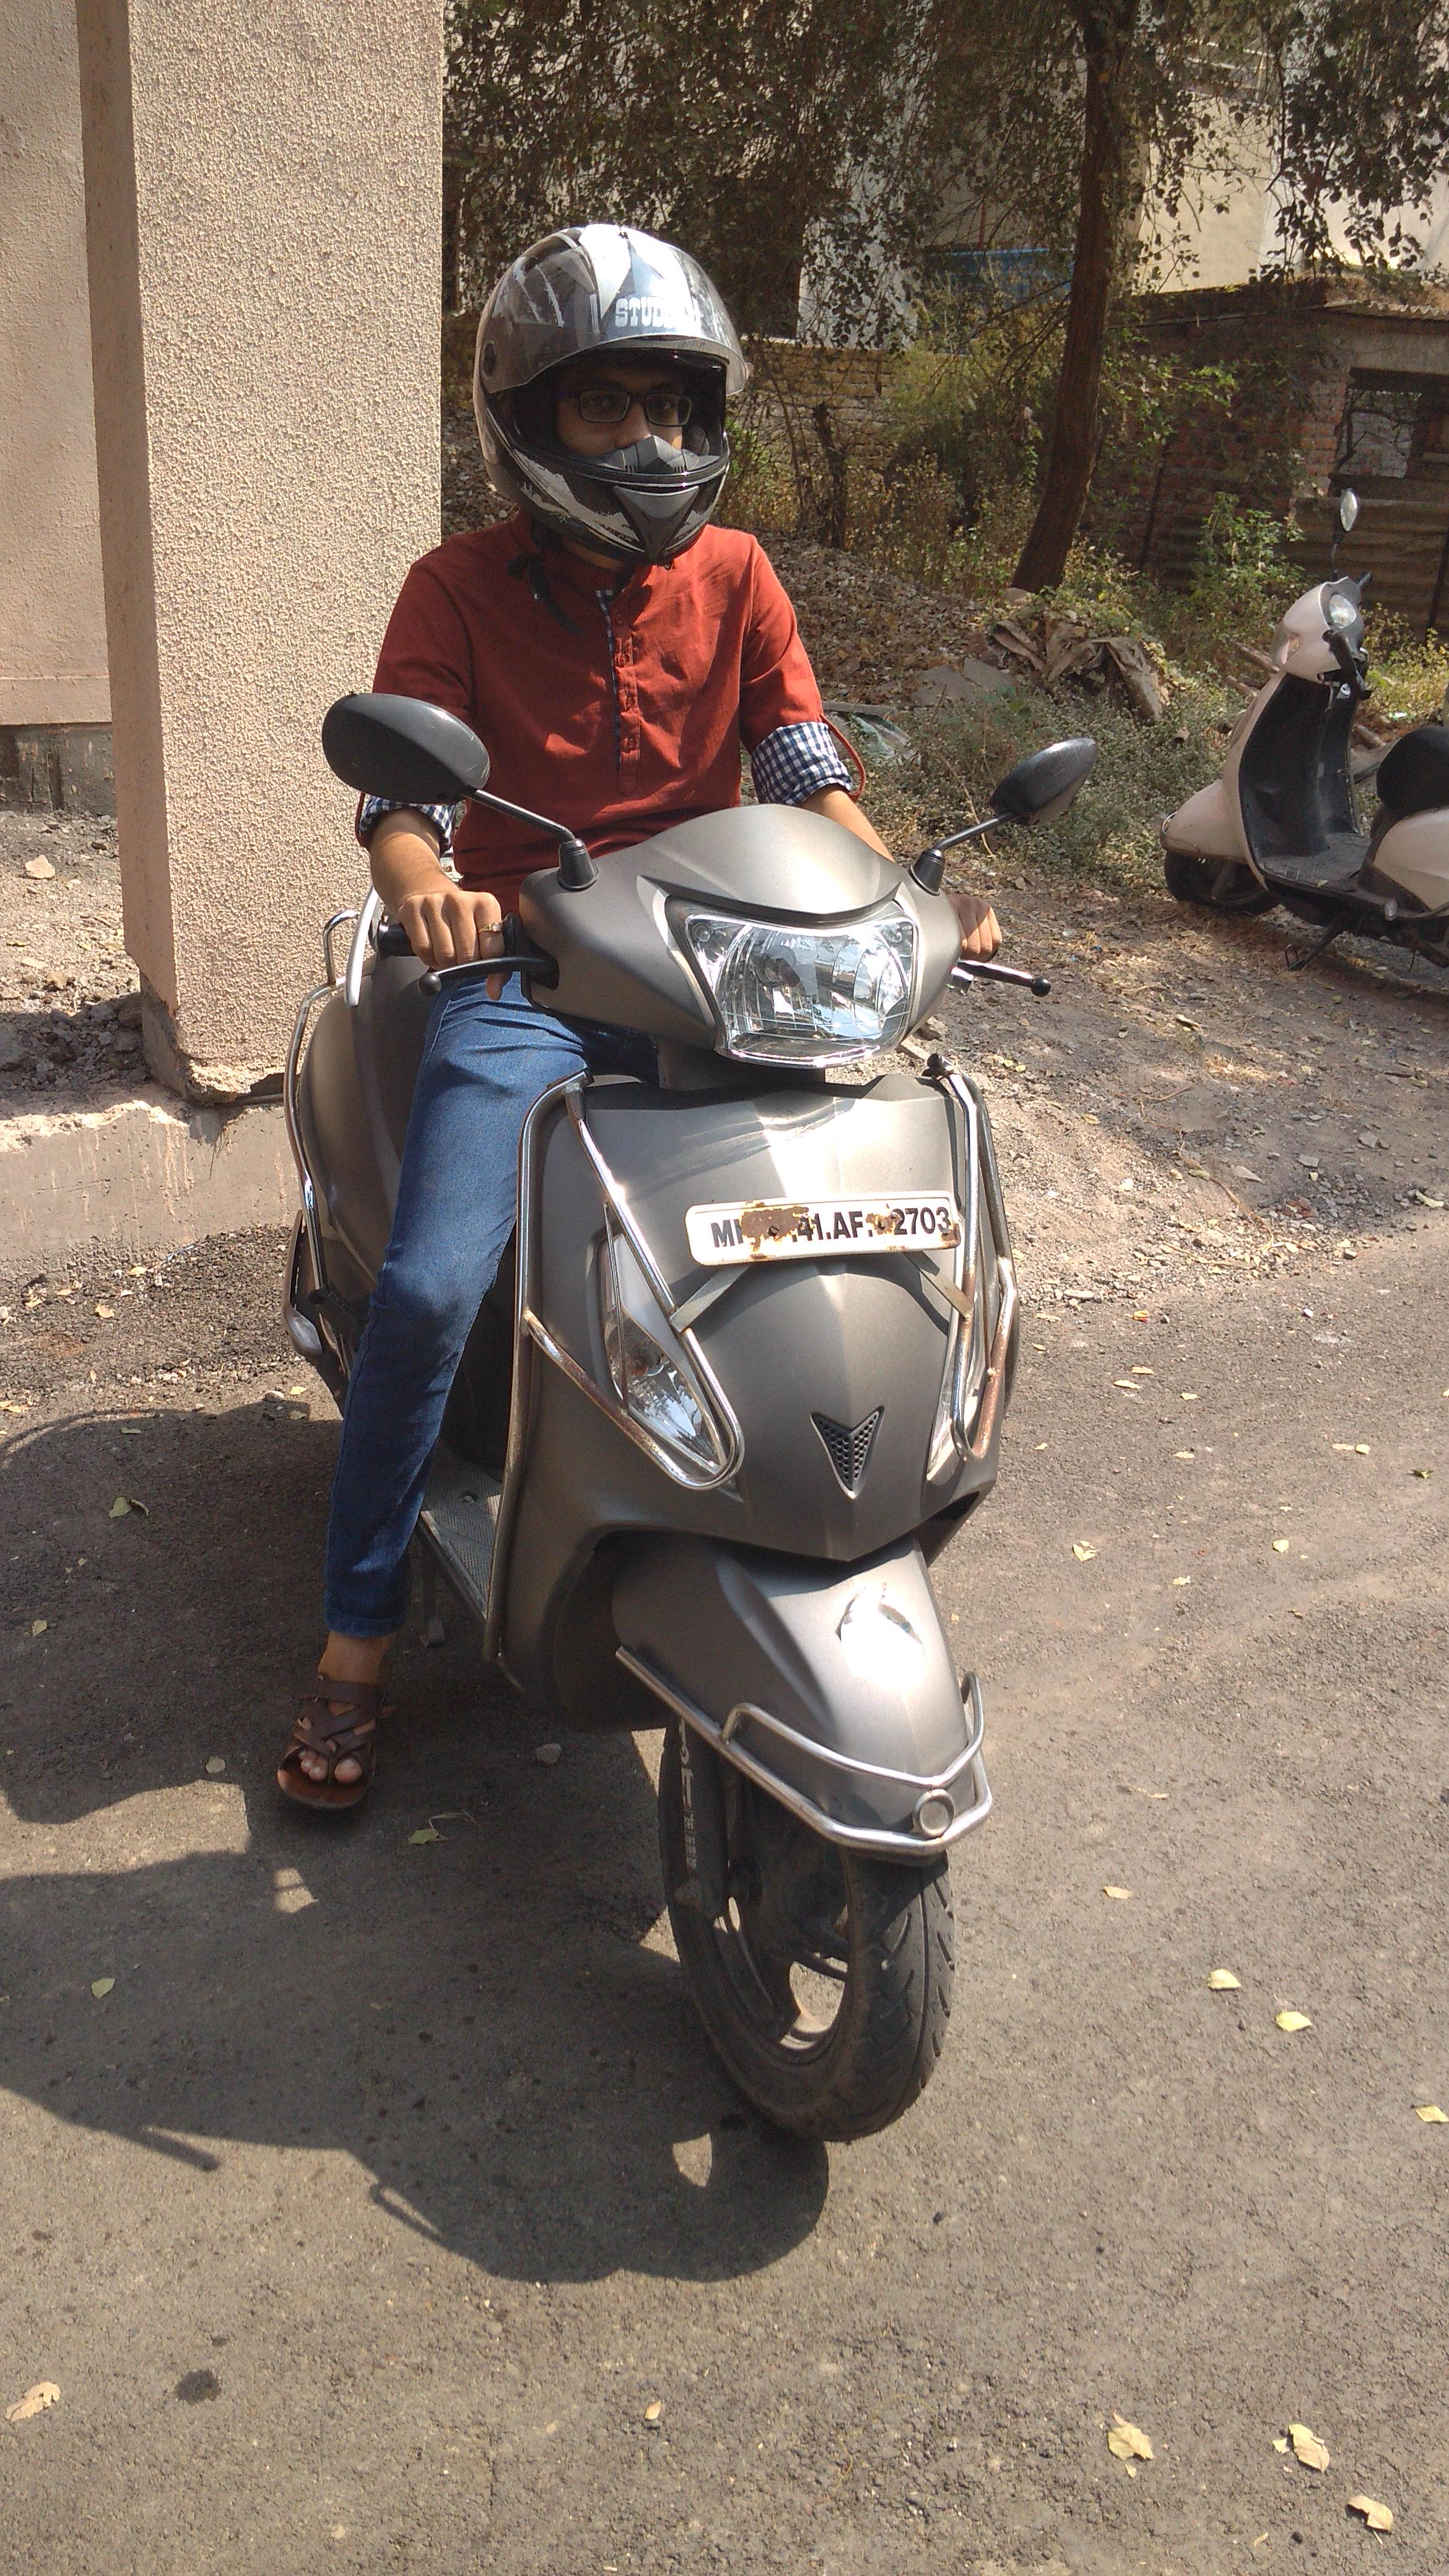helmet: (349, 202, 1033, 1721)
